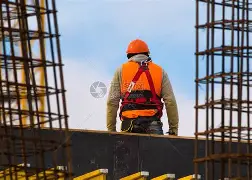safety belt: (122, 59, 165, 115)
